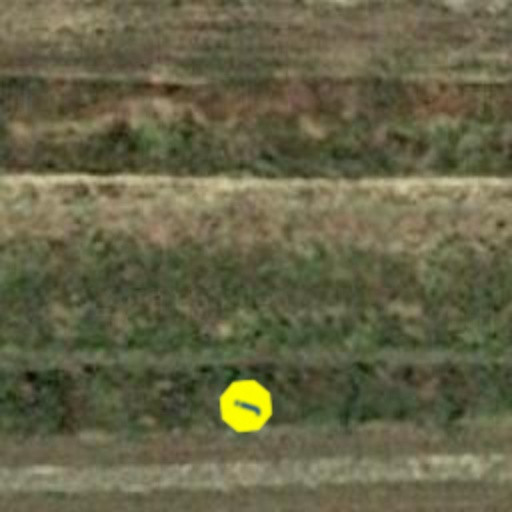octagon: (210, 370, 282, 442)
